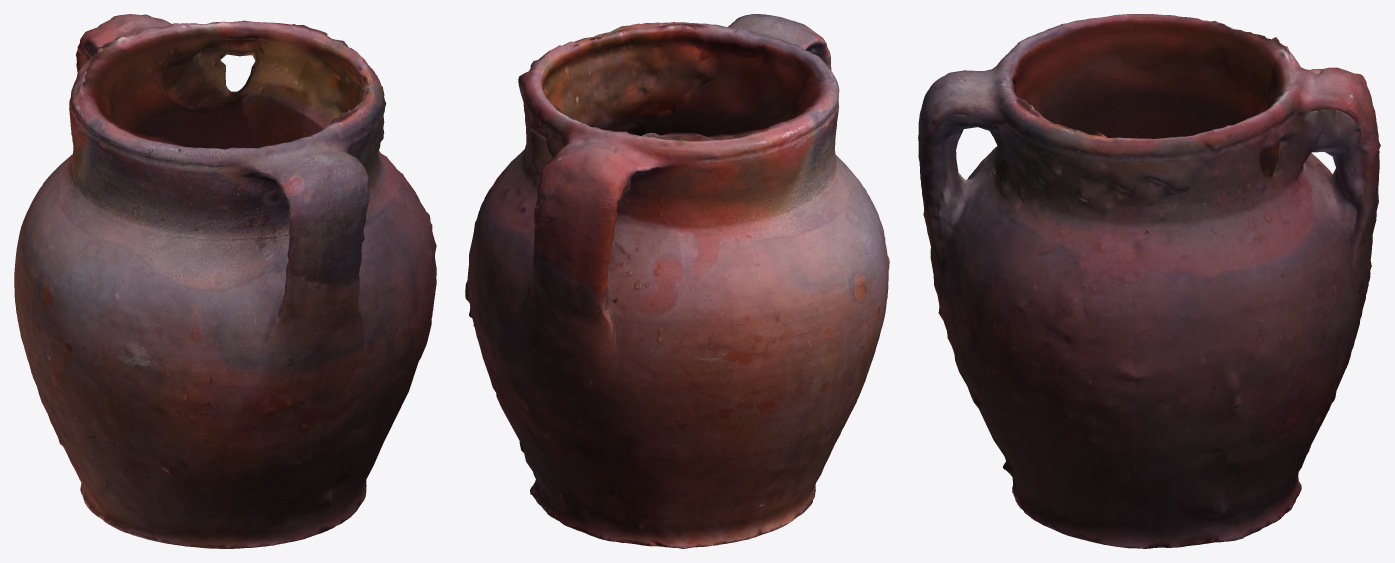
The model's file is OrzaLow.glb.
3 views of the same model, side by side, from view 1: azimuth 30°, elevation 25°; view 2: azimuth 150°, elevation 25°; view 3: azimuth 270°, elevation 25° (orthographic).
Parts seen in each view (by area): view 1: Orza.001; view 2: Orza.001; view 3: Orza.001.
Boxes of the visible parts, left/top/right/bottom form: Orza.001: left=14, top=14, right=436, bottom=548; Orza.001: left=465, top=14, right=889, bottom=548; Orza.001: left=918, top=14, right=1380, bottom=548.
Bounding box in the file's own units: 0.2315 × 0.2479 × 0.2489.
1 material, 1 textured.
